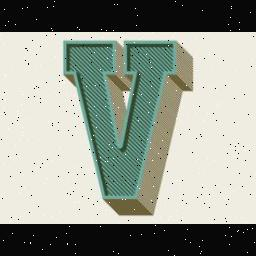v: (42, 38, 206, 224)
